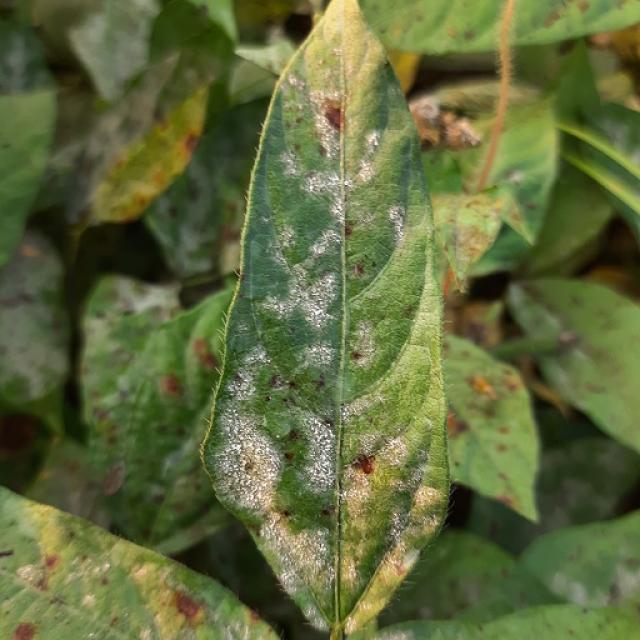Blackgram: (204, 0, 450, 629)
Powdery_Mildew: (232, 136, 405, 525), (216, 375, 347, 526), (288, 149, 384, 261), (298, 102, 392, 197), (338, 461, 407, 560), (276, 200, 352, 289), (220, 411, 283, 518), (1, 307, 65, 403), (266, 521, 329, 604), (279, 413, 337, 500), (278, 269, 339, 348), (258, 368, 326, 436), (220, 436, 280, 513), (546, 556, 631, 609), (450, 205, 497, 276), (235, 341, 283, 400), (309, 98, 348, 158), (349, 423, 406, 463), (300, 170, 346, 215), (307, 229, 342, 264), (411, 486, 444, 522), (238, 445, 266, 479), (567, 581, 588, 606), (388, 206, 405, 234), (401, 548, 420, 570), (302, 601, 321, 622), (364, 130, 381, 151), (17, 565, 36, 580), (81, 593, 97, 608)
